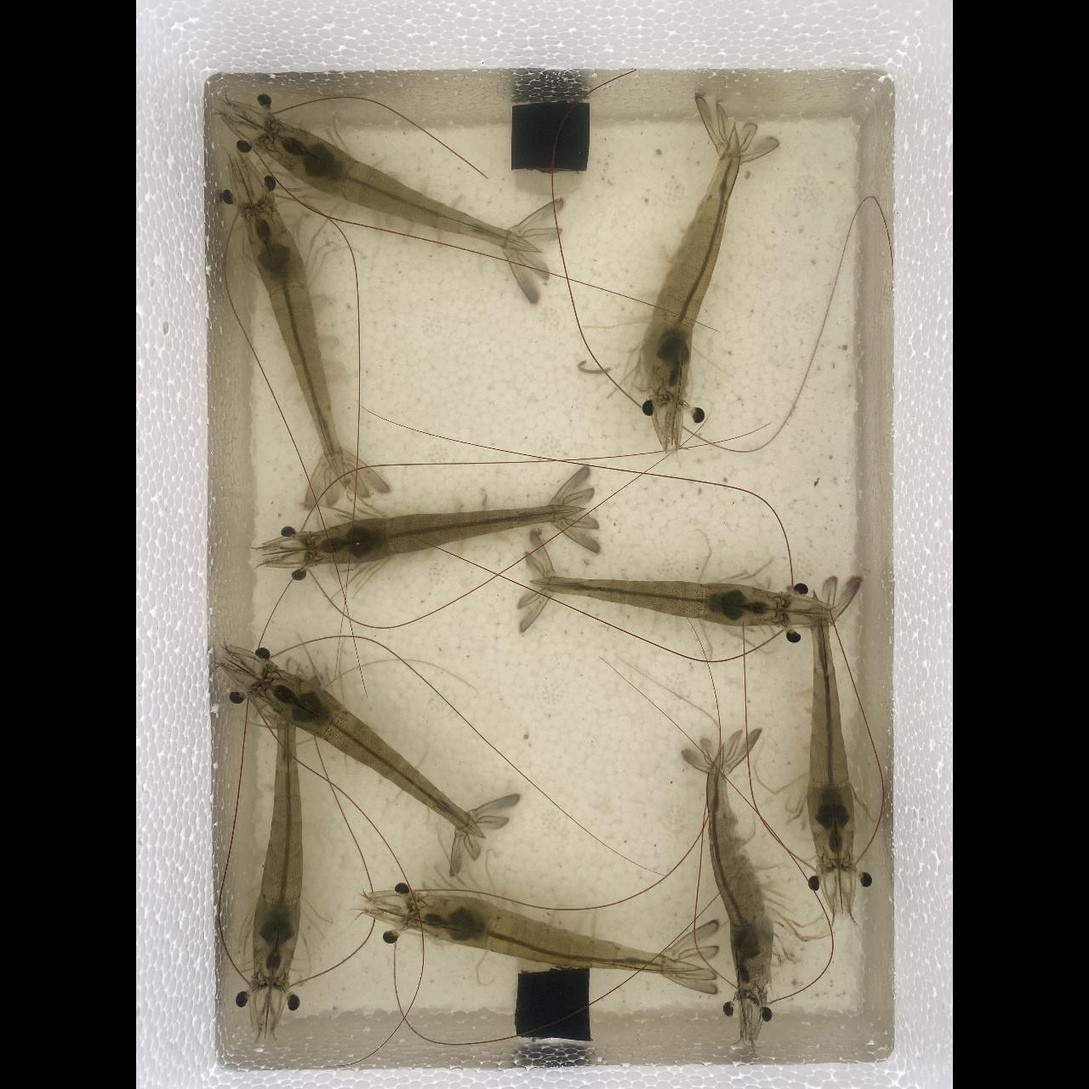box: (512, 99, 590, 168), (516, 968, 590, 1040)
side_shrimp: (708, 749, 774, 989)
top_shrimp: (260, 672, 482, 835), (264, 124, 533, 250), (245, 202, 342, 476), (643, 131, 738, 398), (407, 898, 703, 972), (305, 504, 580, 563), (254, 716, 303, 984), (536, 575, 781, 624), (808, 601, 852, 864)
